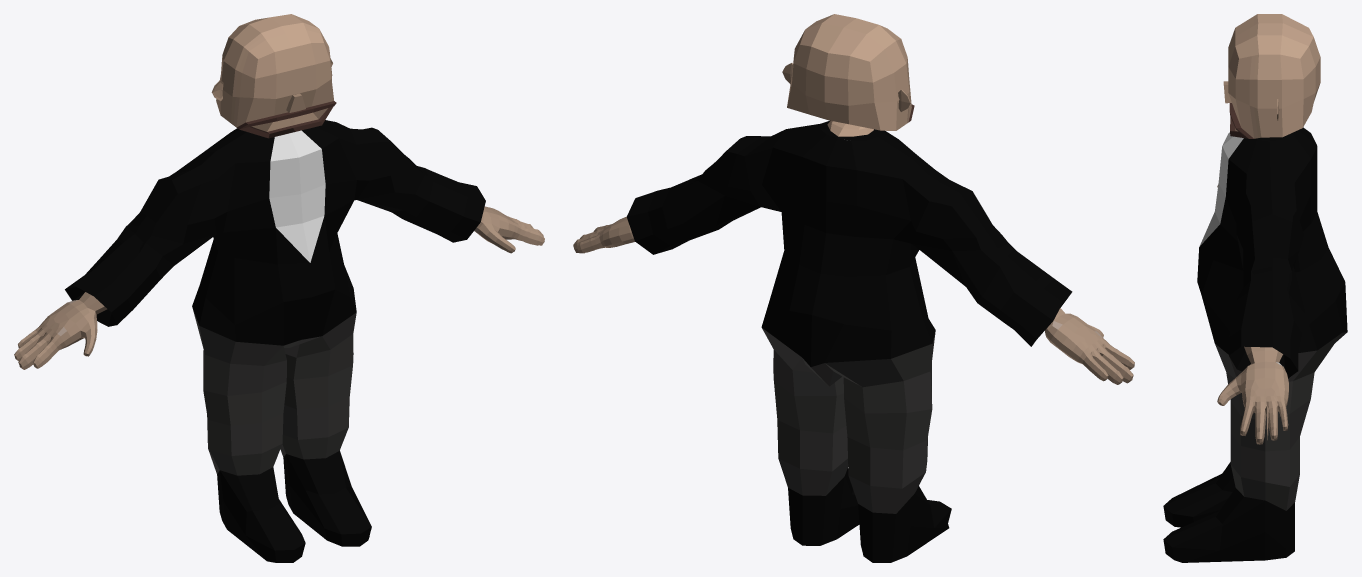
The model's file is PersonagemHumanoXavier.fbx.
The picture shows the model from 3 angles, left to right: view 1: azimuth 30°, elevation 25°; view 2: azimuth 150°, elevation 25°; view 3: azimuth 270°, elevation 25°; orthographic projection. The views are drawn at different scales.
Visible parts, largest first — view 1: HumanoChefe; view 2: HumanoChefe; view 3: HumanoChefe.
Boxes of the visible parts, x1,y1,x2,y2 form: HumanoChefe: (14, 14, 544, 562); HumanoChefe: (573, 14, 1134, 562); HumanoChefe: (1163, 14, 1347, 562).
Bounding box in the file's own units: 692 × 625 × 203.
